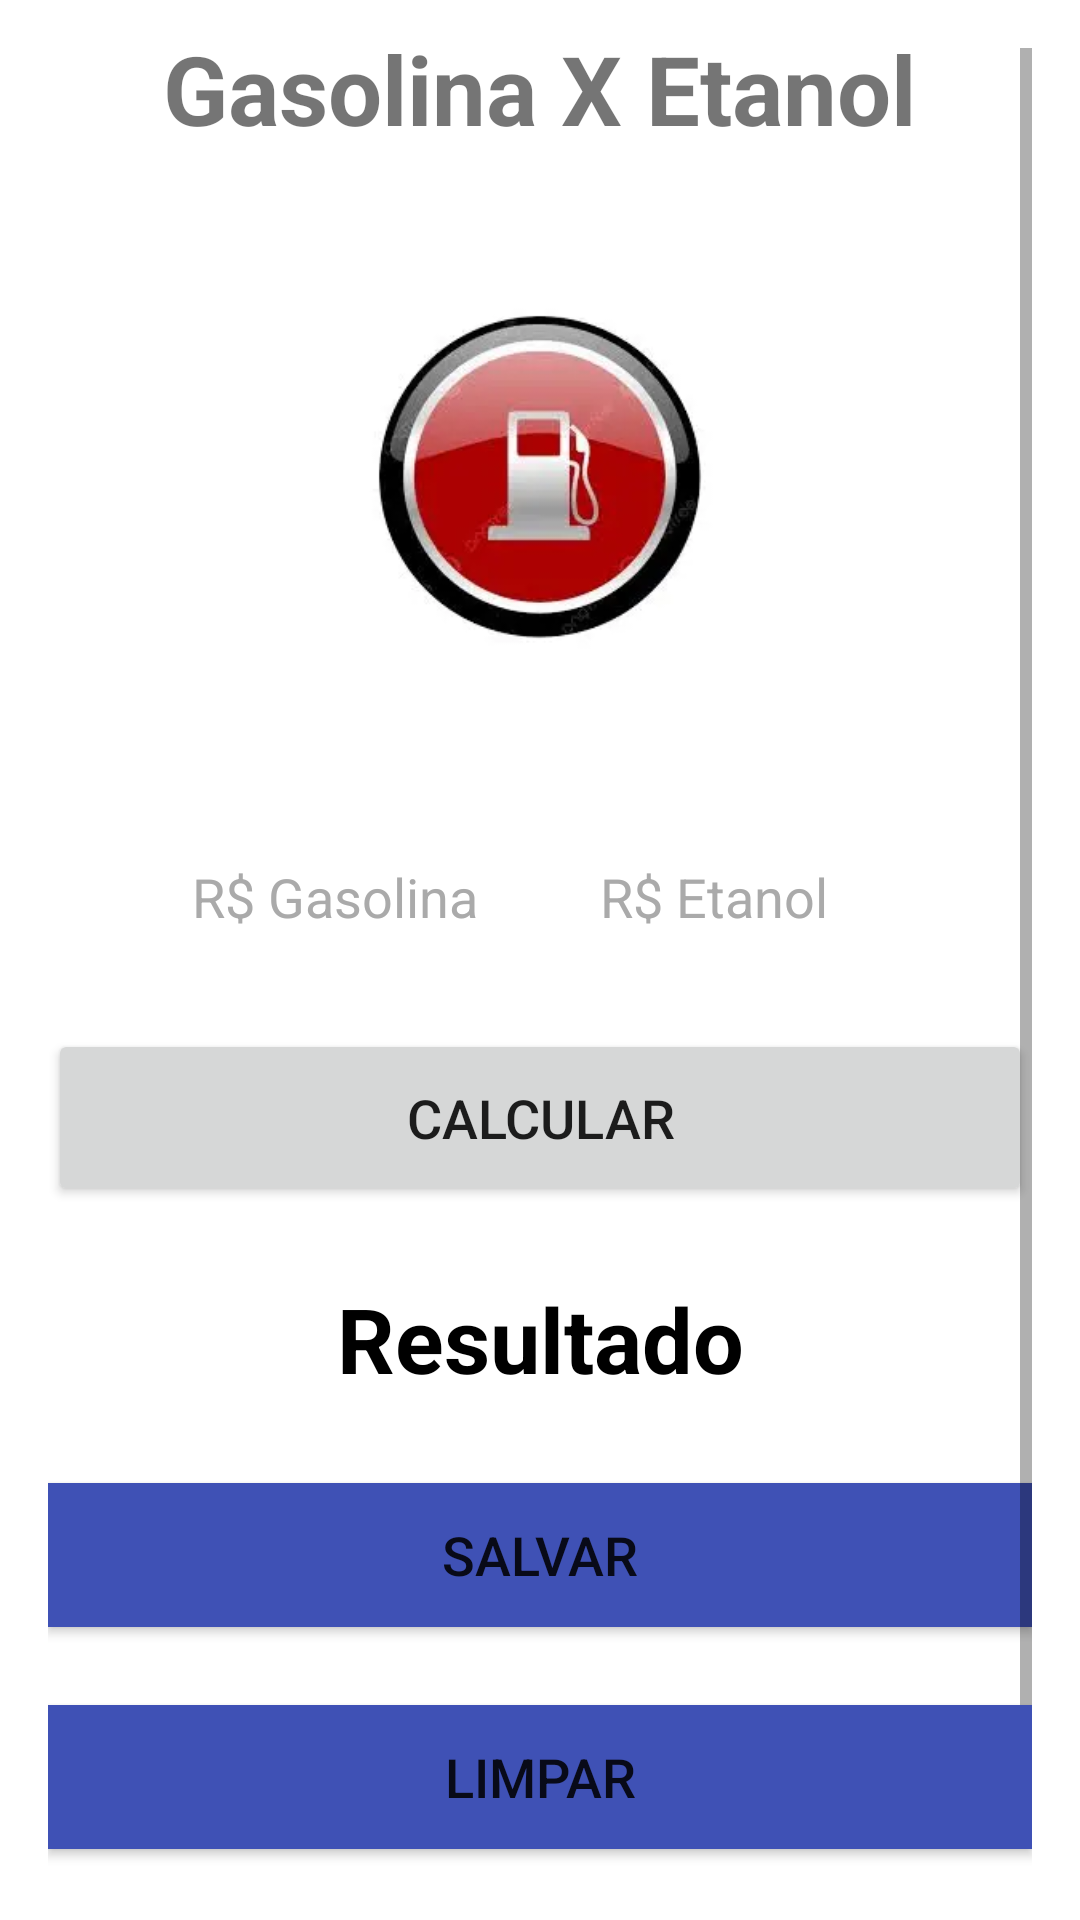

Where icons sit on this 1080 x 1920 app screen, as (x1, y1, x2, y2):
combustivel: (379, 316, 701, 638)
